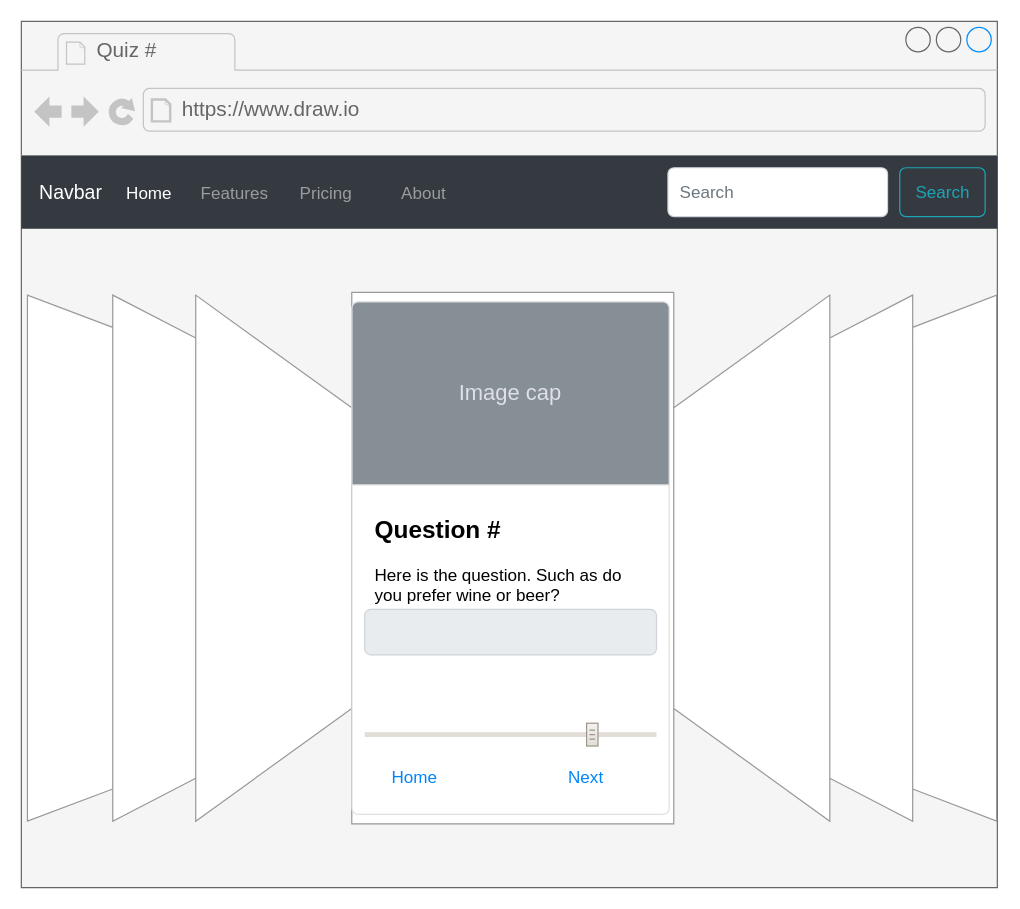
The diagram is 1020 pixels wide and 909 high, and some of its shapes have lost their labels. Here are the shapes that lost their labels. From the top down, the centre of each, then its label:
At [509,631]: "Readonly input here...".
At [509,734]: "How do you rate this question?".
